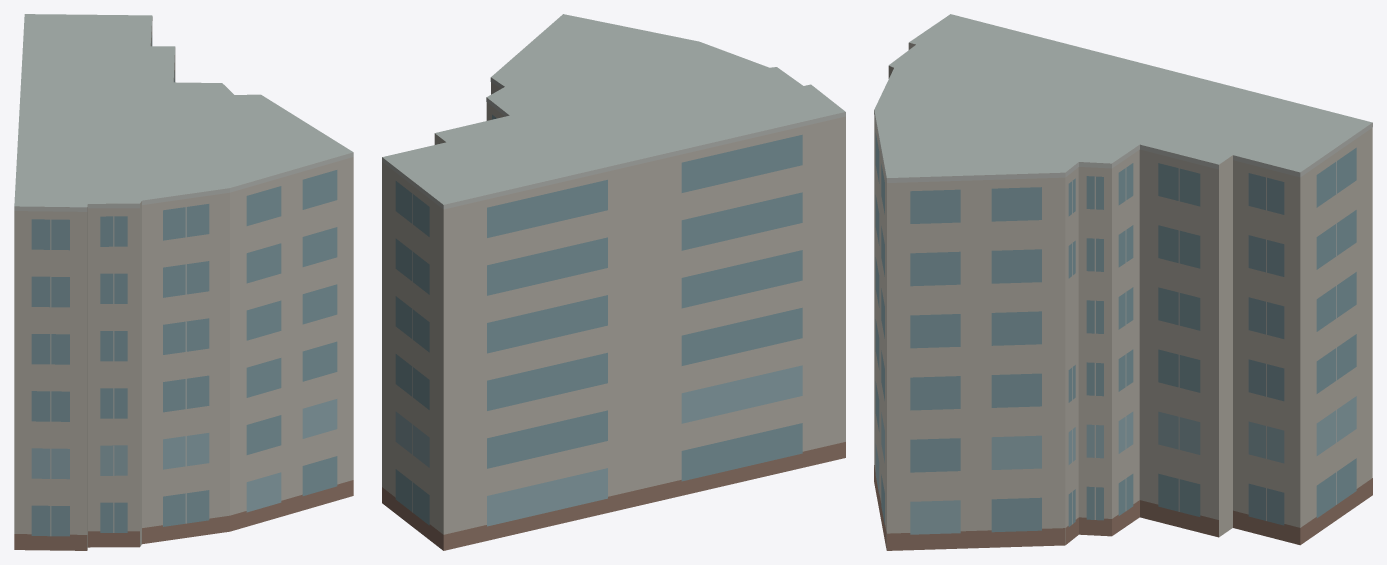
The model's file is survey-upis-33045612.glb.
3 views of the same model, side by side, from view 1: azimuth 30°, elevation 25°; view 2: azimuth 150°, elevation 25°; view 3: azimuth 270°, elevation 25° (orthographic). The views are drawn at different scales.
Visible parts, largest first — view 1: survey-upis-33045612.tmp; view 2: survey-upis-33045612.tmp; view 3: survey-upis-33045612.tmp.
Boxes of the visible parts, box(x1,y1,x2,y2) form: survey-upis-33045612.tmp: box(14, 14, 353, 550); survey-upis-33045612.tmp: box(382, 14, 845, 550); survey-upis-33045612.tmp: box(874, 14, 1372, 550).
Bounding box in the file's own units: 17.29 × 18.3 × 22.19.
